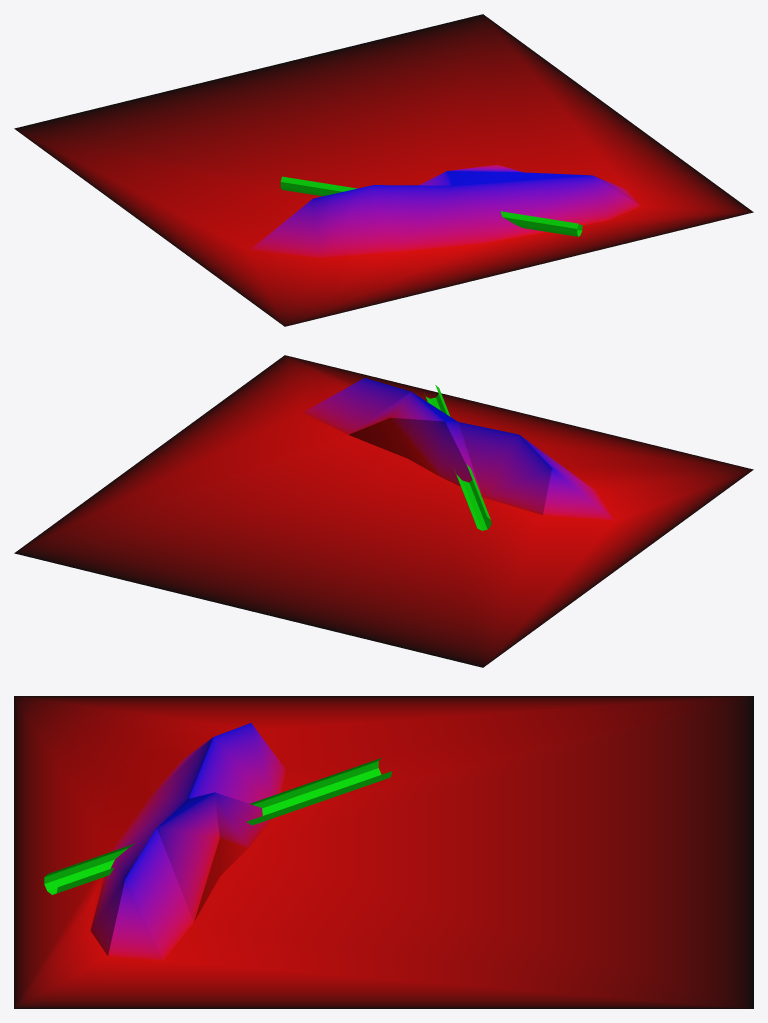
File: CeilingPlaneDamagedV3.fbx
3 renders of one model, top to bottom at view 1: azimuth 30°, elevation 25°; view 2: azimuth 150°, elevation 25°; view 3: azimuth 270°, elevation 25°, orthographic. The views are drawn at different scales.
Visible parts, largest first — view 1: CeilingPlaneDamagedV3; view 2: CeilingPlaneDamagedV3; view 3: CeilingPlaneDamagedV3.
Boxes of the visible parts, x1,y1,x2,y2 form: CeilingPlaneDamagedV3: (14,14,753,326); CeilingPlaneDamagedV3: (14,355,753,667); CeilingPlaneDamagedV3: (14,696,753,1008).
Bounding box in the file's own units: 200 × 19.94 × 200.
